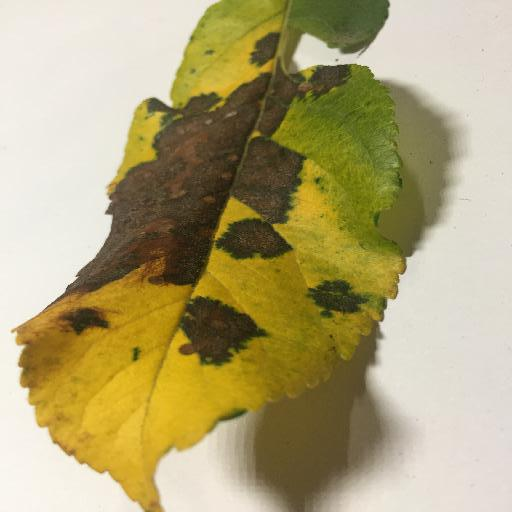Brown_Spot: (68, 53, 318, 281), (176, 292, 258, 362)
